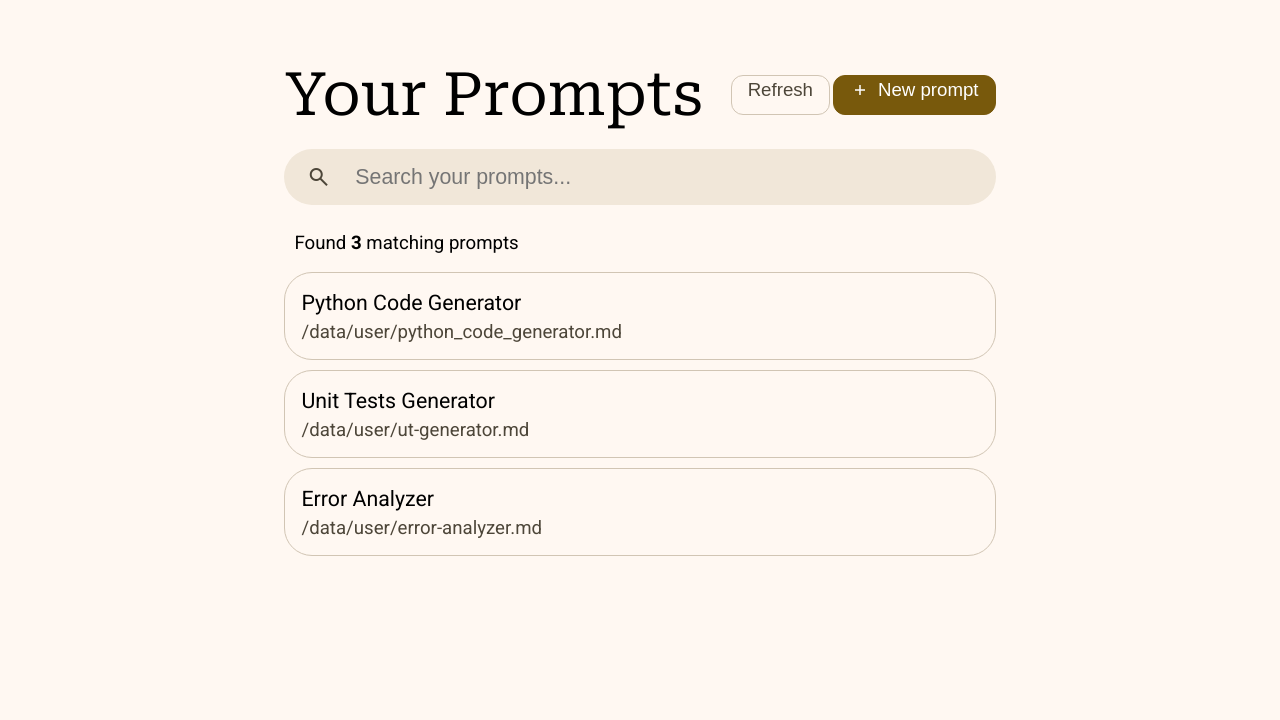
screen transitions › transition to "Prompt Fill" screen for selected prompt should be made when user clicks on prompt from list in the list mode
The width and height of the screenshot is (1280, 720).
Click the list item "Python Code Generator /data/user/python_code_generator.md": [640, 316] box top-left (284, 272), bottom-right (996, 360)
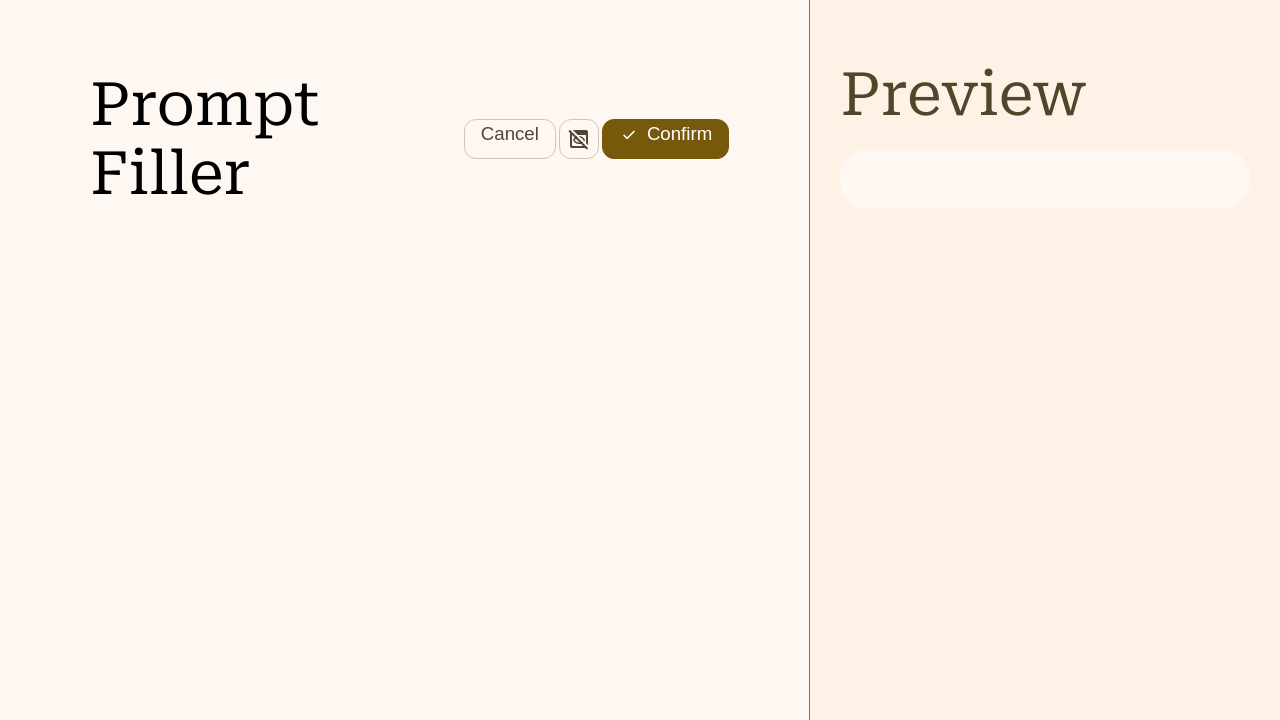
Expected: the text "Prompt Filler" is shown, top-left (90, 69), bottom-right (335, 209)
